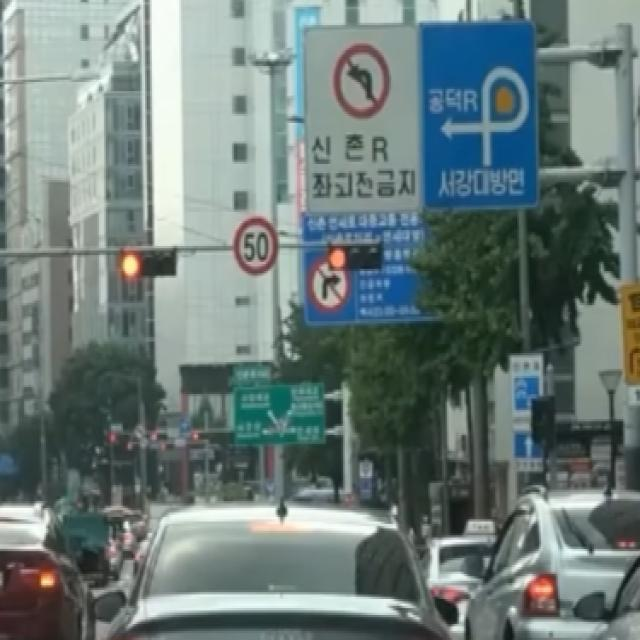Red Light: (121, 252, 141, 279), (330, 246, 345, 269)
